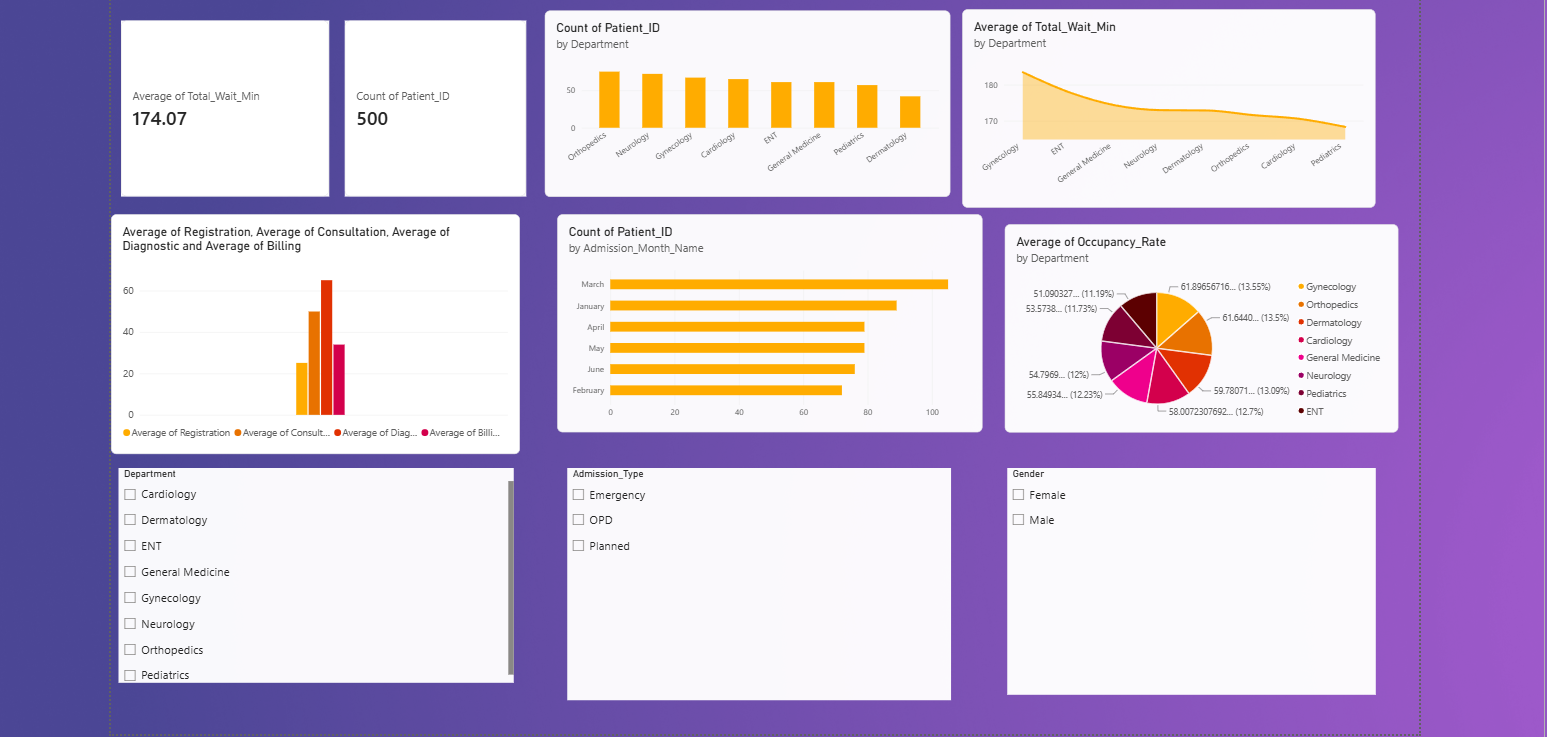

What the dashboard file says about the page in this screenshot:
{"tool":"powerbi","page":{"name":"Page 1","canvas":[1920,1080],"ordinal":0},"visuals":[{"type":"cardVisual","fields":{"Data":["CountNonNull(hospital_operations_cleaned.Patient_ID)"]},"box":[343.8,32.6,266,258.8],"z":0},{"type":"cardVisual","fields":{"Data":["Avg(hospital_operations_cleaned.Total_Wait_Min)"]},"box":[14.5,32.6,305.8,258.8],"z":1000},{"type":"clusteredColumnChart","fields":{"Category":["hospital_operations_cleaned.Department"],"Y":["CountNonNull(hospital_operations_cleaned.Patient_ID)"]},"box":[637,18.1,595.4,273.3],"z":2000},{"type":"areaChart","fields":{"Category":["hospital_operations_cleaned.Department"],"Y":["Avg(hospital_operations_cleaned.Total_Wait_Min)"]},"box":[1248.7,16.3,606.2,291.4],"z":3000},{"type":"clusteredColumnChart","fields":{"Y":["Avg(hospital_operations_cleaned.Registration_Wait_Min)","Avg(hospital_operations_cleaned.Consultation_Wait_Min)","Avg(hospital_operations_cleaned.Diagnostic_Wait_Min)","Avg(hospital_operations_cleaned.Billing_Wait_Min)"]},"box":[0,317.3,599.8,352.2],"z":4000},{"type":"clusteredBarChart","fields":{"Category":["hospital_operations_cleaned.Admission_Month_Name"],"Y":["CountNonNull(hospital_operations_cleaned.Patient_ID)"]},"box":[655.1,316.7,624.3,320.3],"z":5000},{"type":"pieChart","fields":{"Category":["hospital_operations_cleaned.Department"],"Y":["Avg(hospital_operations_cleaned.Occupancy_Rate)"]},"box":[1312,331.2,577.3,305.8],"z":6000},{"type":"slicer","fields":{"Values":["hospital_operations_cleaned.Department"]},"box":[11,689.7,579.6,315.5],"z":7000},{"type":"slicer","fields":{"Values":["hospital_operations_cleaned.Admission_Type"]},"box":[669.5,689.7,563.1,341.2],"z":8000},{"type":"slicer","fields":{"Values":["hospital_operations_cleaned.Gender"]},"box":[1315.2,689.7,541.1,333],"z":9000}]}

Visuals, with their boxes in screenshot pixels (x1, y1, x2, y2):
cardVisual - CountNonNull(hospital_operations_cleaned.Patient_ID): select_region(348, 22, 527, 196)
cardVisual - Avg(hospital_operations_cleaned.Total_Wait_Min): select_region(127, 22, 332, 196)
clusteredColumnChart - hospital_operations_cleaned.Department x CountNonNull(hospital_operations_cleaned.Patient_ID): select_region(546, 12, 946, 196)
areaChart - hospital_operations_cleaned.Department x Avg(hospital_operations_cleaned.Total_Wait_Min): select_region(957, 11, 1366, 207)
clusteredColumnChart - Avg(hospital_operations_cleaned.Registration_Wait_Min) x Avg(hospital_operations_cleaned.Consultation_Wait_Min): select_region(117, 214, 521, 451)
clusteredBarChart - hospital_operations_cleaned.Admission_Month_Name x CountNonNull(hospital_operations_cleaned.Patient_ID): select_region(558, 213, 978, 429)
pieChart - hospital_operations_cleaned.Department x Avg(hospital_operations_cleaned.Occupancy_Rate): select_region(1000, 223, 1389, 429)
slicer - hospital_operations_cleaned.Department: select_region(124, 464, 514, 677)
slicer - hospital_operations_cleaned.Admission_Type: select_region(568, 464, 947, 694)
slicer - hospital_operations_cleaned.Gender: select_region(1002, 464, 1366, 688)
